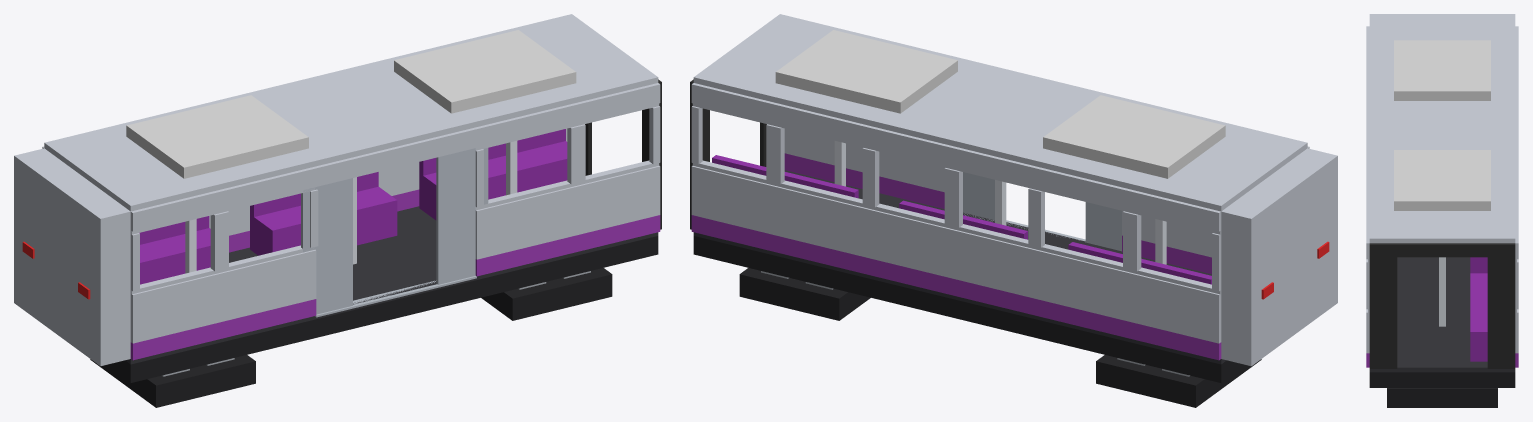
The model's file is metro_wagon_rear_half_l5.obj.
The picture shows the model from 3 angles, left to right: view 1: azimuth 30°, elevation 25°; view 2: azimuth 150°, elevation 25°; view 3: azimuth 270°, elevation 25°; orthographic projection. The views are drawn at different scales.
Size of the model in its own units: 3.16 by 1.26 by 0.88.
